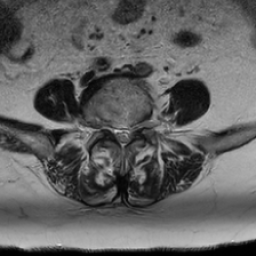CCS_normal: (119, 118, 126, 155)
LFS_stenosis: (133, 113, 142, 138)
LLS_normal: (126, 118, 133, 149)
RFS_stenosis: (104, 115, 112, 137)
RLS_stenosis: (112, 117, 119, 148)
